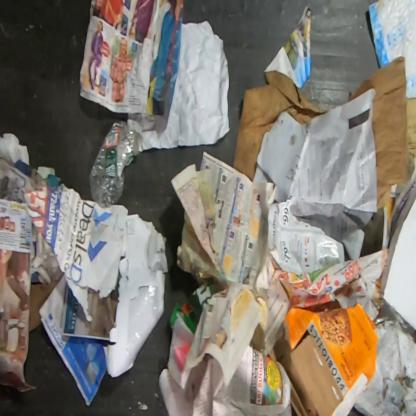cardboard: (269, 301, 380, 416), (349, 56, 415, 209)
rigid_plastic: (89, 118, 135, 209)
soft_plastic: (368, 0, 415, 100)
